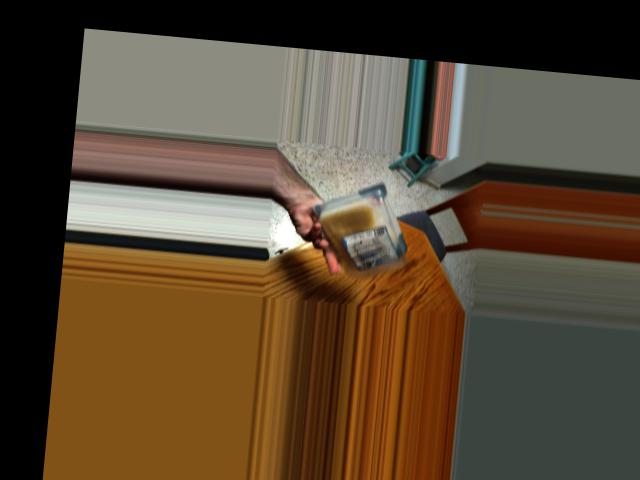cheese: (331, 180, 412, 277)
